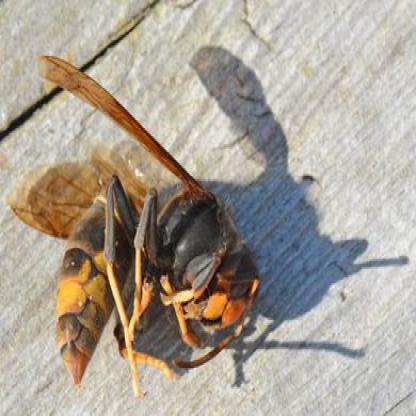Asian Hornet: (8, 52, 261, 401)
